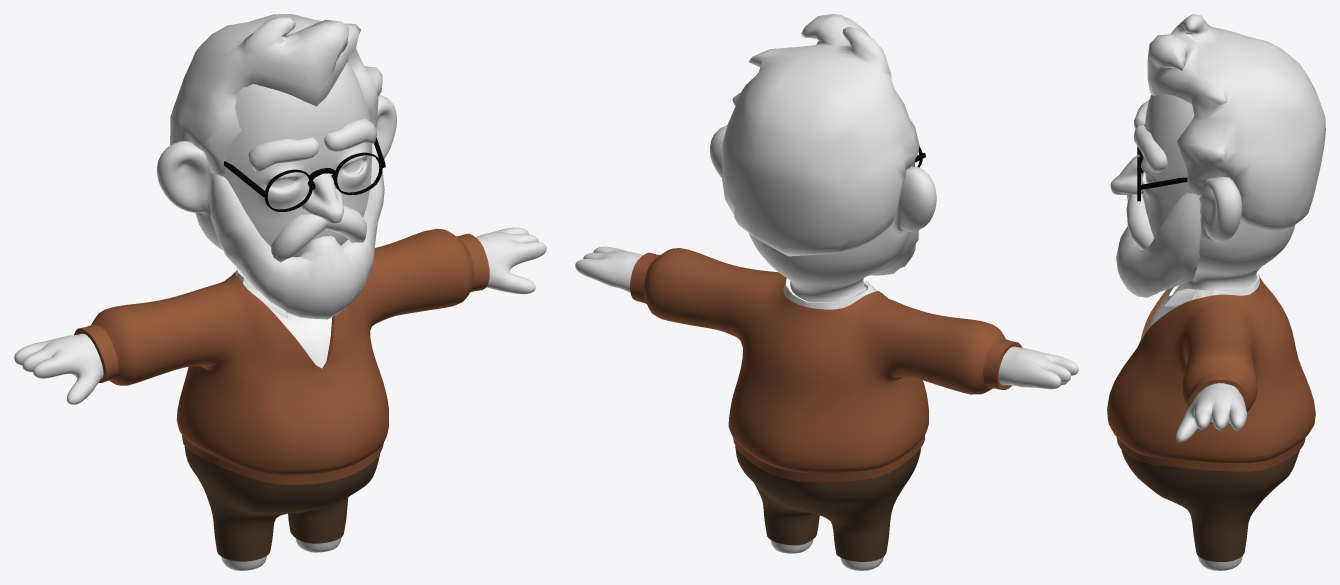
3 views of the same model, side by side, from view 1: azimuth 30°, elevation 25°; view 2: azimuth 150°, elevation 25°; view 3: azimuth 270°, elevation 25° (orthographic). The views are drawn at different scales.
Parts seen in each view (by area): view 1: M1_Clothes_Outfit_low, M1_Hair_low, MF_Body_low, M1_Nose_low; view 2: M1_Clothes_Outfit_low, M1_Hair_low, MF_Body_low; view 3: M1_Clothes_Outfit_low, M1_Hair_low, MF_Body_low, M1_Nose_low.
Boxes of the visible parts, x1,y1,x2,y2 form: M1_Clothes_Outfit_low: (74,137,489,561); M1_Hair_low: (170,14,384,319); MF_Body_low: (14,63,546,570); M1_Nose_low: (301,168,343,223); M1_Clothes_Outfit_low: (630,146,1022,561); M1_Hair_low: (722,14,919,275); MF_Body_low: (575,125,1078,570); M1_Clothes_Outfit_low: (1107,146,1315,561); M1_Hair_low: (1116,14,1325,297); MF_Body_low: (1141,94,1295,570); M1_Nose_low: (1110,154,1143,194).
Size of the model in its own units: 126 by 130 by 48.91.
